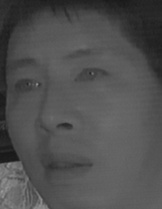eye: (74, 64, 110, 89), (11, 74, 45, 96)
mouth: (35, 147, 95, 184)
